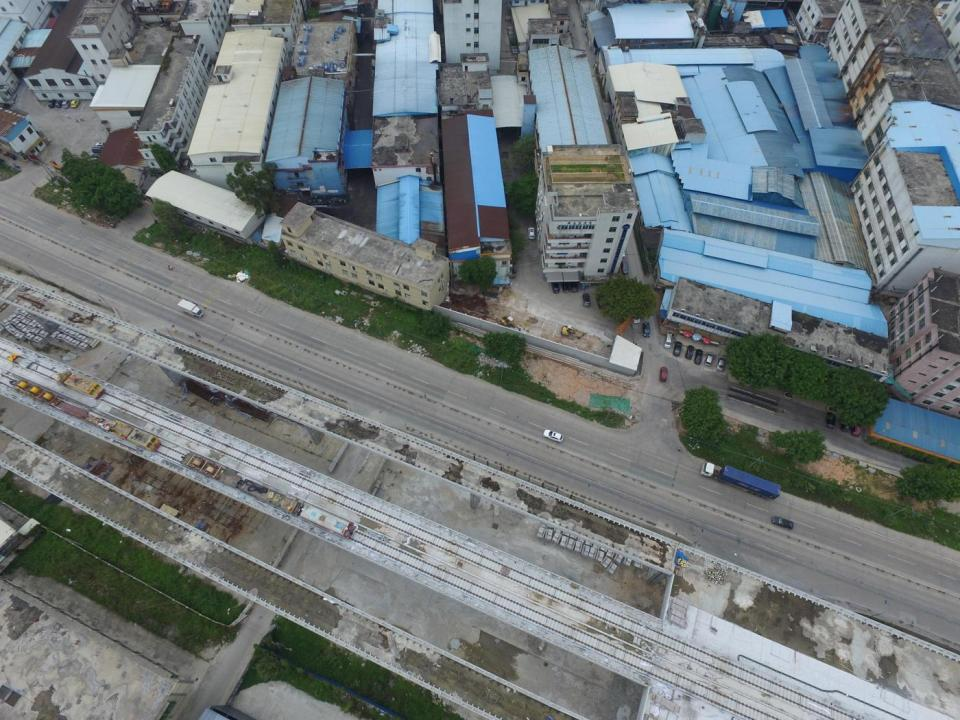car: (770, 514, 794, 530), (542, 429, 564, 443), (850, 418, 864, 436), (840, 415, 852, 434), (824, 411, 837, 428), (672, 340, 683, 355), (658, 366, 668, 382), (620, 260, 630, 276), (717, 354, 726, 371), (642, 320, 650, 338), (694, 348, 703, 364), (632, 306, 640, 323), (526, 226, 535, 241), (705, 351, 713, 367), (582, 292, 590, 306), (686, 345, 694, 359), (562, 278, 569, 294), (571, 278, 578, 293), (552, 280, 560, 293), (61, 98, 71, 108), (70, 98, 80, 108), (91, 152, 104, 159), (48, 98, 56, 108), (55, 98, 63, 108), (96, 142, 106, 150)
truck: (700, 462, 781, 502), (177, 299, 204, 318)
van: (90, 146, 106, 154), (663, 332, 671, 348)
